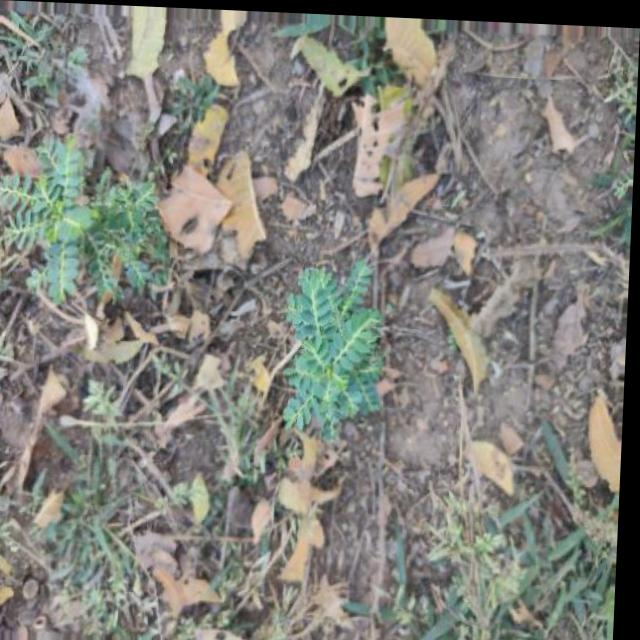weed: (0, 124, 188, 344), (268, 253, 404, 460), (419, 490, 553, 616)
